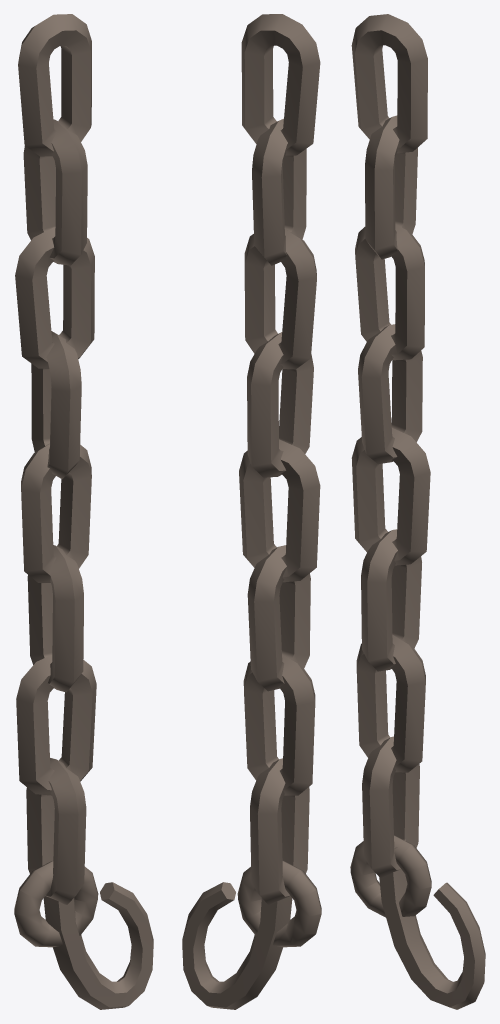
Rendered from chain_short.glb.
3 renders of one model, left to right at view 1: azimuth 30°, elevation 25°; view 2: azimuth 150°, elevation 25°; view 3: azimuth 330°, elevation 25°, orthographic. The views are drawn at different scales.
Visible parts, largest first — view 1: chain_short; view 2: chain_short; view 3: chain_short.
Part boxes in pixels (x1,y1,x2,y2): chain_short: (14,14,153,1009); chain_short: (182,14,321,1009); chain_short: (350,14,485,1009).
Bounding box in the file's own units: 0.1644 × 1.14 × 0.0912.
